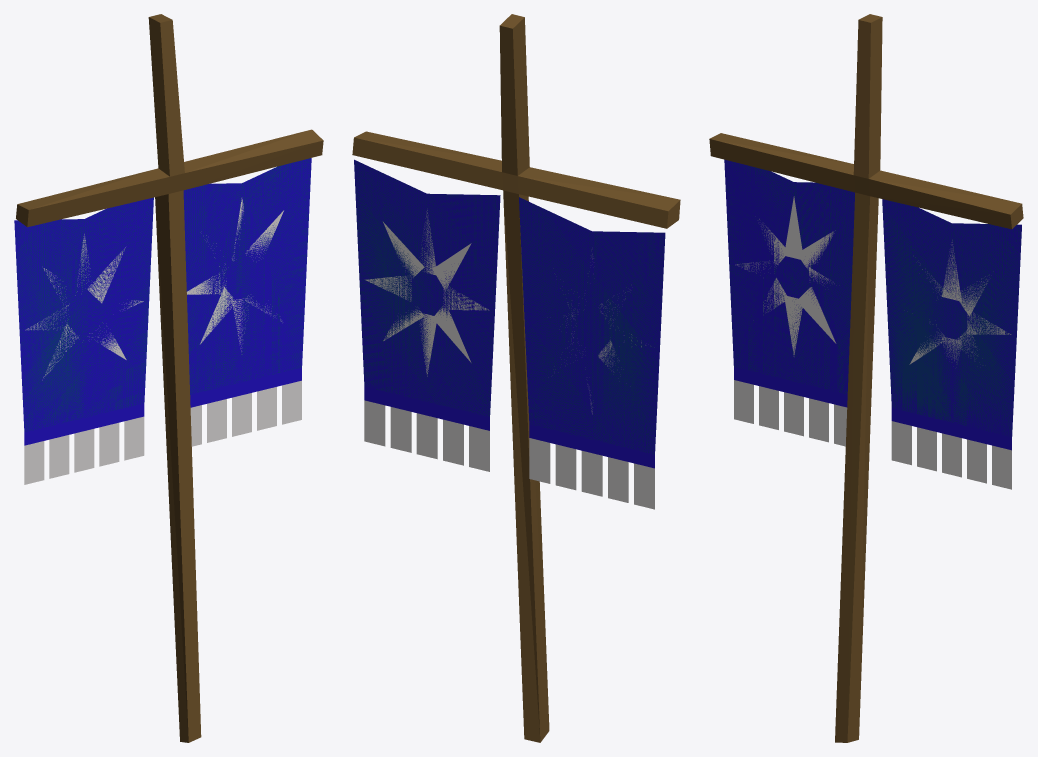
Rendered from obj_standard_12_0.obj.
3 renders of one model, left to right at view 1: azimuth 30°, elevation 25°; view 2: azimuth 150°, elevation 25°; view 3: azimuth 330°, elevation 25°, orthographic. The views are drawn at different scales.
Size of the model in its own units: 0.9297 by 2.11 by 0.2031.
